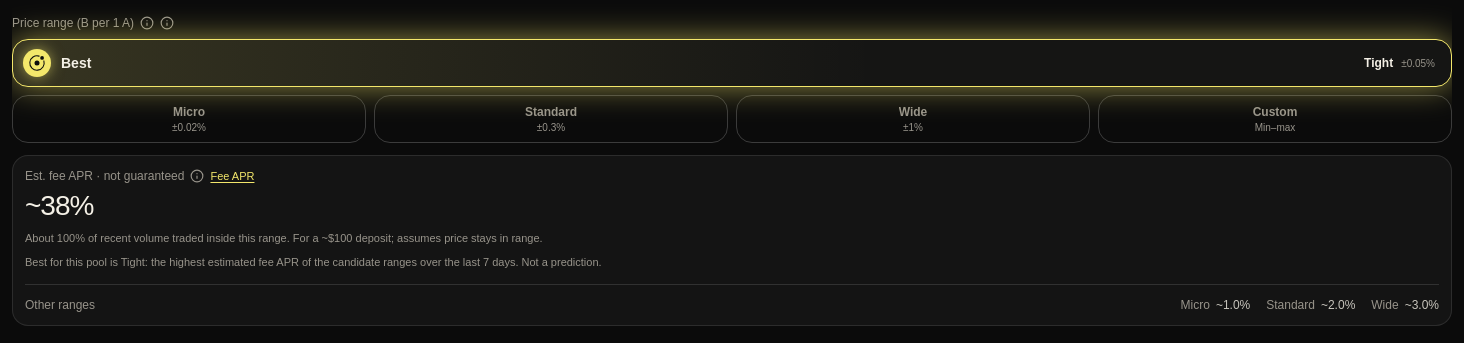
RangePresetPicker › tells the truth about Best (automatic highest estimated APR, not a model) in the tooltip and the note
Hover over the button named "About Best".
mouse_move(147, 23)  # box [140, 16, 154, 30]
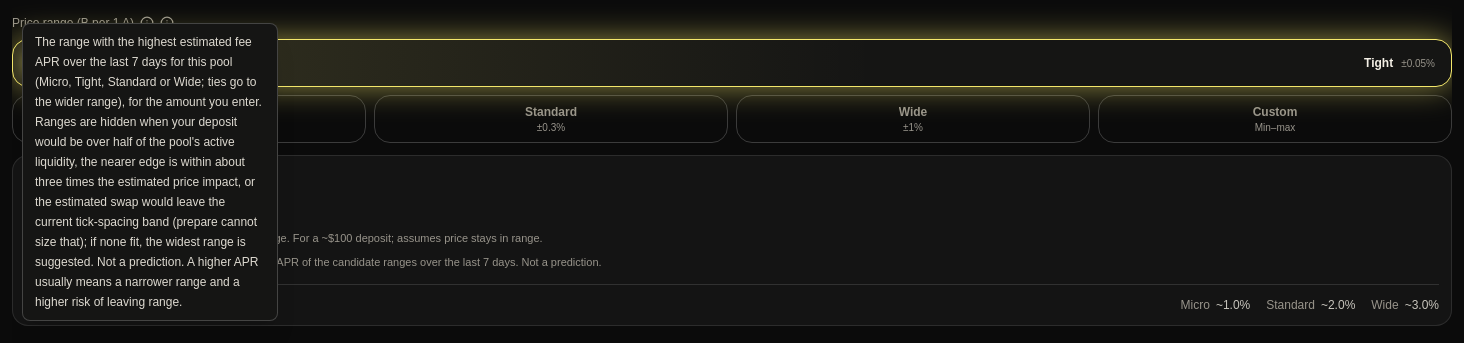
Check: the tooltip shows "highest estimated fee APR", box [35, 35, 262, 309]
Check: the tooltip shows "last 7 days", box [35, 35, 262, 309]
Check: the tooltip shows "Not a prediction", box [35, 35, 262, 309]
